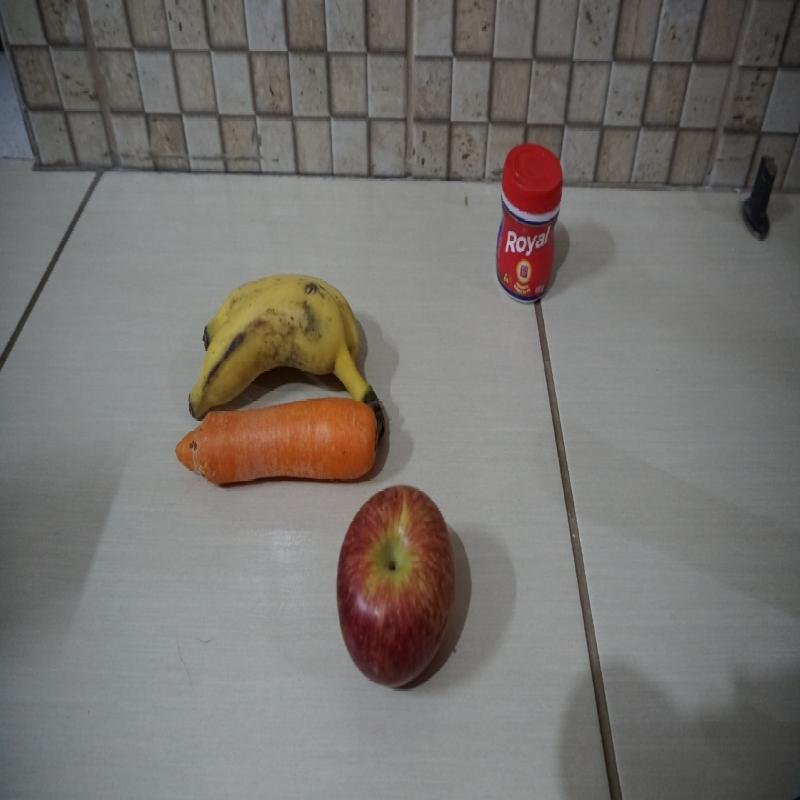Apple: (329, 482, 452, 686)
Banana: (187, 273, 394, 394)
Carrot: (170, 400, 380, 482)
Yeast: (495, 140, 564, 303)
